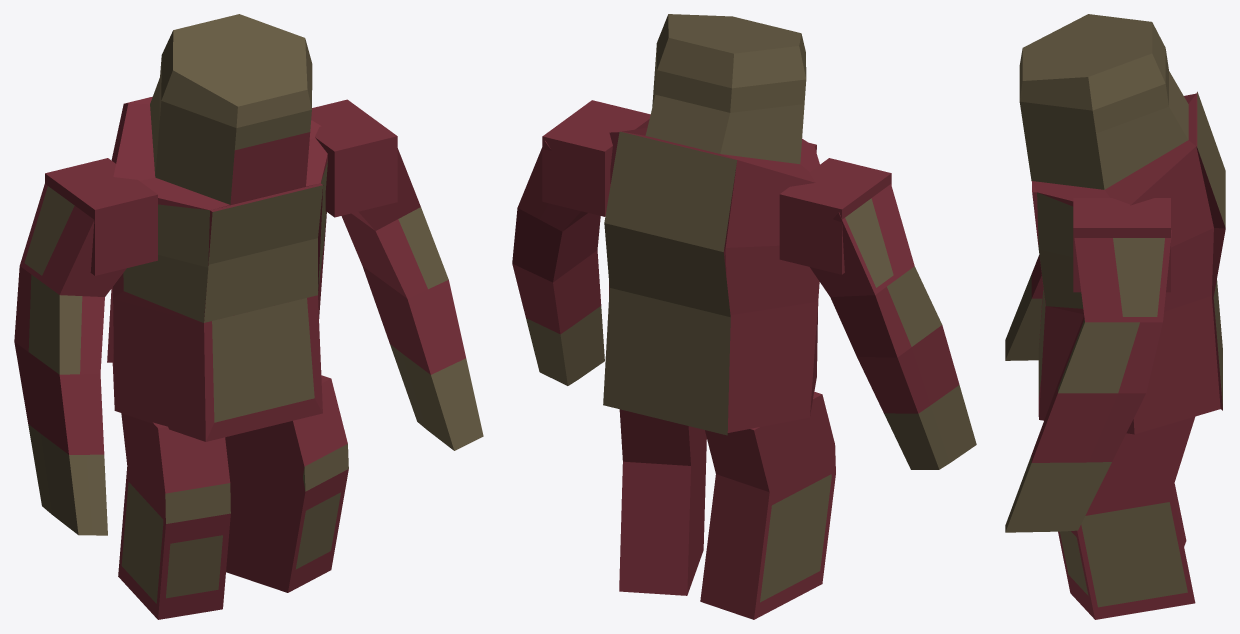
File: Titan.fbx
3 views of the same model, side by side, from view 1: azimuth 30°, elevation 25°; view 2: azimuth 150°, elevation 25°; view 3: azimuth 270°, elevation 25° (orthographic). The views are drawn at different scales.
Parts seen in each view (by area): view 1: Cylinder, Cube.003, Cube.001, Cube.006, Cube.005, Cube.002, Cube.004; view 2: Cylinder, Cube.001, Cube.003, Cube.006, Cube.005, Cube.002, Cube.004; view 3: Cylinder, Cube.005, Cube.006, Cube.004, Cube.003.
Boxes of the visible parts, x1,y1,x2,y2 form: Cylinder: [107, 14, 327, 441]; Cube.003: [14, 184, 126, 535]; Cube.001: [118, 413, 230, 619]; Cube.006: [225, 375, 348, 592]; Cube.005: [341, 148, 483, 450]; Cube.002: [45, 158, 157, 275]; Cube.004: [311, 99, 397, 217]; Cylinder: [603, 14, 819, 435]; Cube.001: [700, 391, 835, 619]; Cube.003: [810, 184, 976, 469]; Cube.006: [619, 409, 706, 595]; Cube.005: [512, 141, 604, 385]; Cube.002: [779, 158, 891, 274]; Cube.004: [542, 100, 650, 216]; Cylinder: [1019, 14, 1225, 434]; Cube.005: [1005, 230, 1171, 532]; Cube.006: [1058, 416, 1195, 619]; Cube.004: [1073, 198, 1170, 292]; Cube.003: [1005, 255, 1042, 360].
Bounding box in the file's own units: 366 × 475 × 177.
